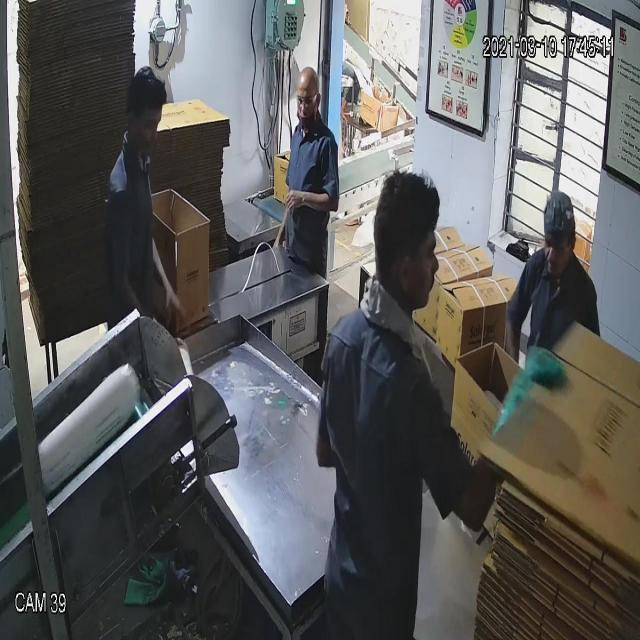No_Gloves: (273, 178, 343, 223)
